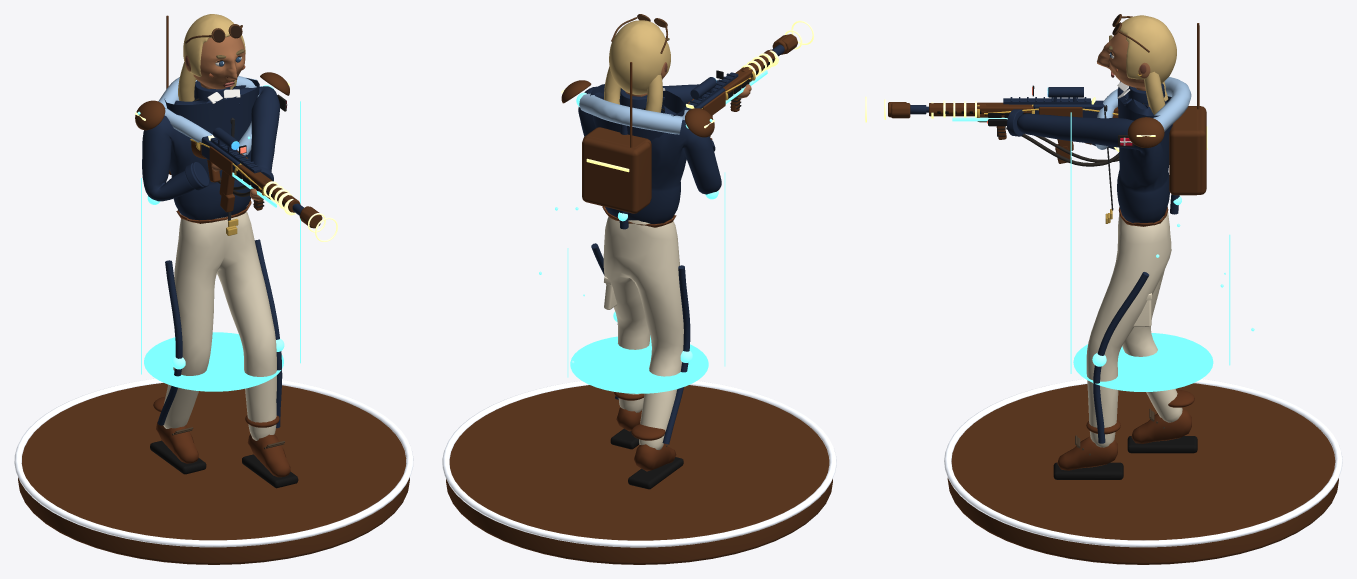
File: vagt_hellerup.glb
3 renders of one model, left to right at view 1: azimuth 30°, elevation 25°; view 2: azimuth 150°, elevation 25°; view 3: azimuth 270°, elevation 25°, orthographic.
Parts seen in each view (by area): view 1: fod_net, menneske_net, op4.001_net, hoved_net, op4.002_net, vaaben_net, op3_net, op4_net, op3.001_net, op1_net, op2_net; view 2: fod_net, menneske_net, op4.002_net, op4.001_net, hoved_net, op3_net, op4_net, vaaben_net, ned4_net, op3.001_net; view 3: fod_net, menneske_net, op4.001_net, hoved_net, ned4_net, op4.002_net, vaaben_net, op1_net, op3_net, op3.001_net, op2_net, op4_net.
Part boxes in pixels (x1,y1,x2,y2): fod_net: (14, 378, 413, 564); menneske_net: (142, 76, 298, 488); op4.001_net: (137, 101, 300, 391); hoved_net: (178, 14, 245, 101); op4.002_net: (147, 85, 284, 428); vaaben_net: (191, 135, 303, 215); op3_net: (135, 15, 290, 130); op4_net: (232, 172, 337, 241); op3.001_net: (208, 135, 300, 212); op1_net: (213, 127, 258, 196); op2_net: (190, 139, 270, 212); fod_net: (442, 381, 836, 564); menneske_net: (578, 80, 751, 489); op4.002_net: (576, 92, 718, 444); op4.001_net: (539, 119, 725, 393); hoved_net: (604, 14, 670, 112); op3_net: (561, 62, 714, 147); op4_net: (725, 20, 813, 103); vaaben_net: (684, 44, 784, 110); ned4_net: (583, 127, 651, 200); op3.001_net: (686, 49, 775, 115); fod_net: (944, 379, 1342, 564); menneske_net: (1007, 77, 1197, 479); op4.001_net: (1070, 112, 1254, 391); hoved_net: (1097, 14, 1176, 114); ned4_net: (1169, 106, 1200, 195); op4.002_net: (1092, 106, 1207, 443); vaaben_net: (910, 97, 1148, 144); op1_net: (988, 87, 1119, 166); op3_net: (1127, 23, 1199, 147); op3.001_net: (929, 97, 1095, 117); op2_net: (977, 85, 1118, 163); op4_net: (865, 96, 1119, 151).
Size of the model in its own units: 1.94 by 2.5 by 2.32.
